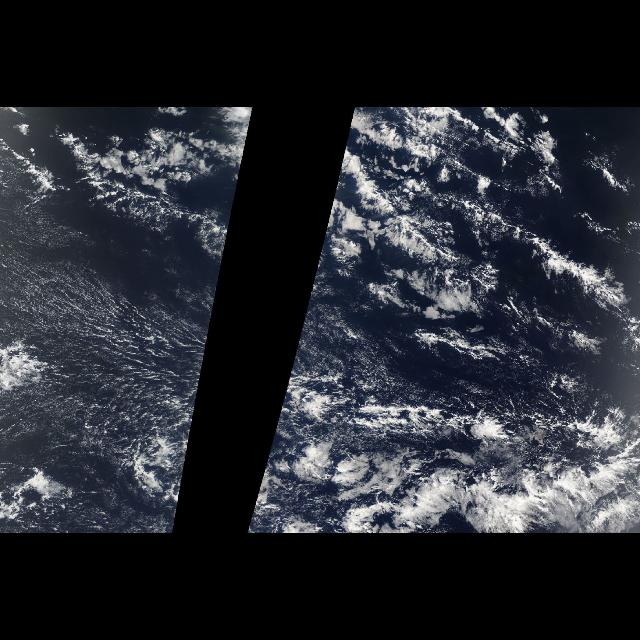Fish: (334, 143, 464, 287), (493, 204, 631, 322)
Sugar: (0, 222, 202, 341)
